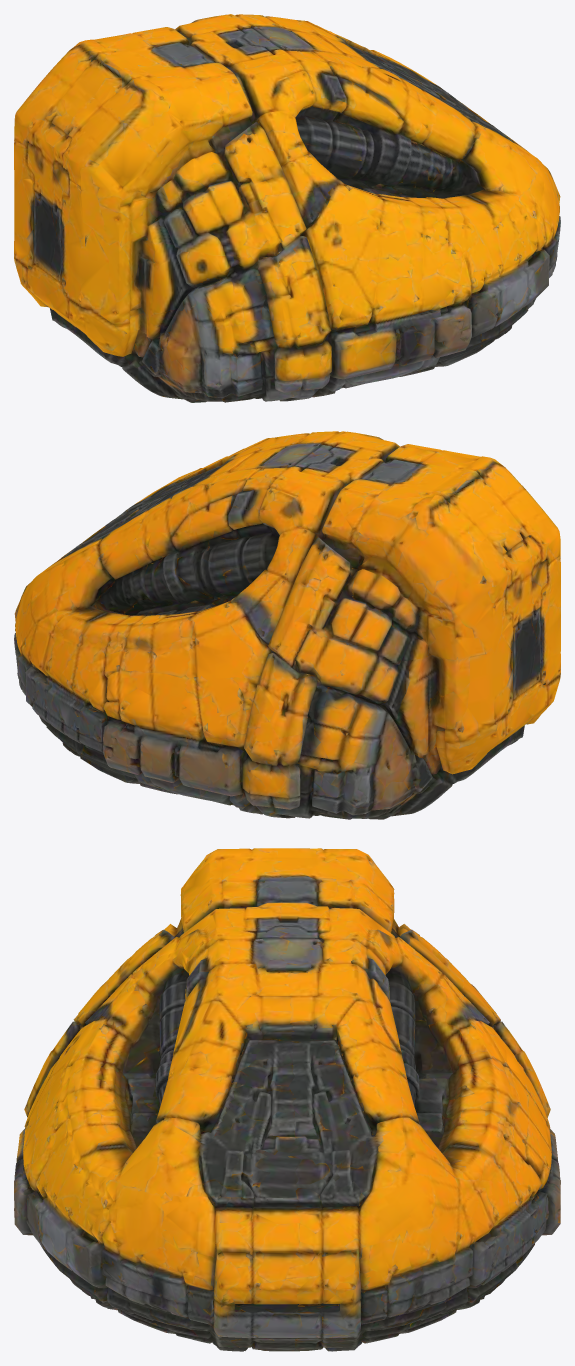
File: arc-minesmith-lean.glb
The picture shows the model from 3 angles, top to bottom: view 1: azimuth 30°, elevation 25°; view 2: azimuth 150°, elevation 25°; view 3: azimuth 270°, elevation 25°; orthographic projection. The views are drawn at different scales.
Visible parts, largest first — view 1: chassis; view 2: chassis; view 3: chassis.
Boxes of the visible parts, x1=… form: chassis: x1=14, y1=14, x2=560, y2=402; chassis: x1=14, y1=431, x2=560, y2=819; chassis: x1=14, y1=848, x2=560, y2=1351.
Bounding box in the file's own units: 0.99 × 0.6047 × 0.9063.
Materials: 1 (1 with a texture image).
